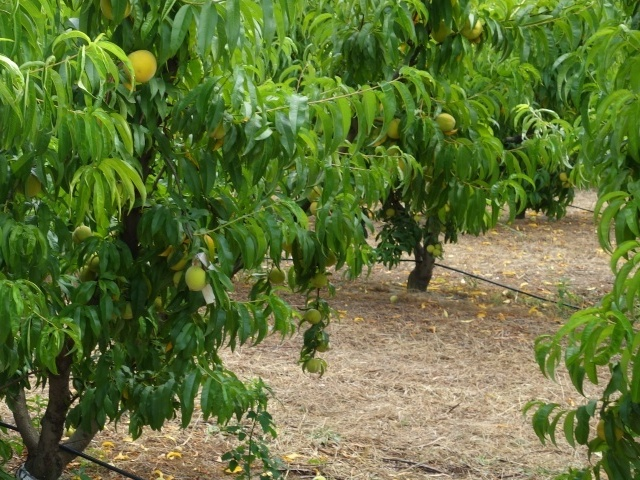peach: (122, 47, 159, 85), (182, 264, 211, 292), (68, 221, 98, 246), (457, 16, 485, 42), (429, 17, 453, 44), (432, 109, 456, 135), (385, 117, 404, 142), (303, 305, 324, 327), (302, 354, 322, 375), (267, 265, 287, 286), (313, 335, 332, 354), (310, 270, 329, 289)
